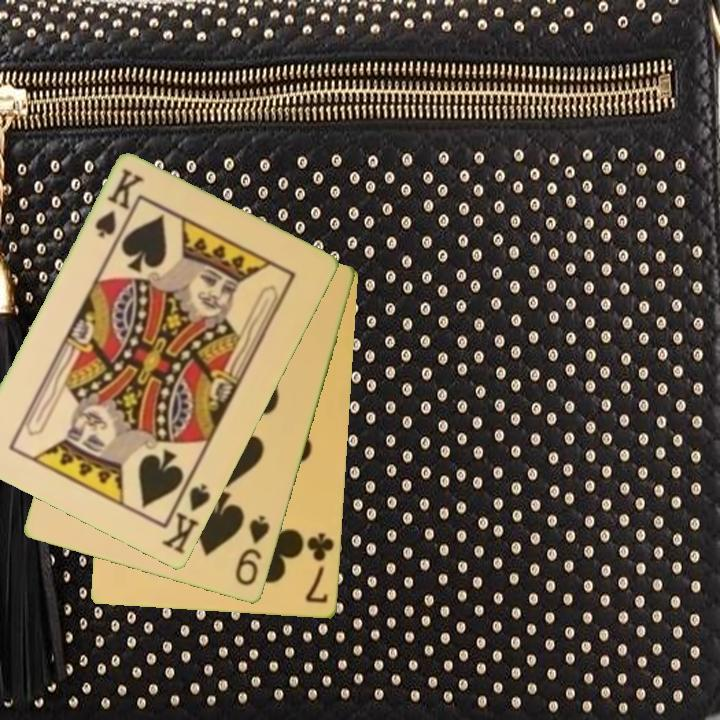7c: (303, 530, 337, 607)
9s: (232, 512, 274, 589)
Ks: (91, 165, 148, 242), (158, 480, 214, 558)
